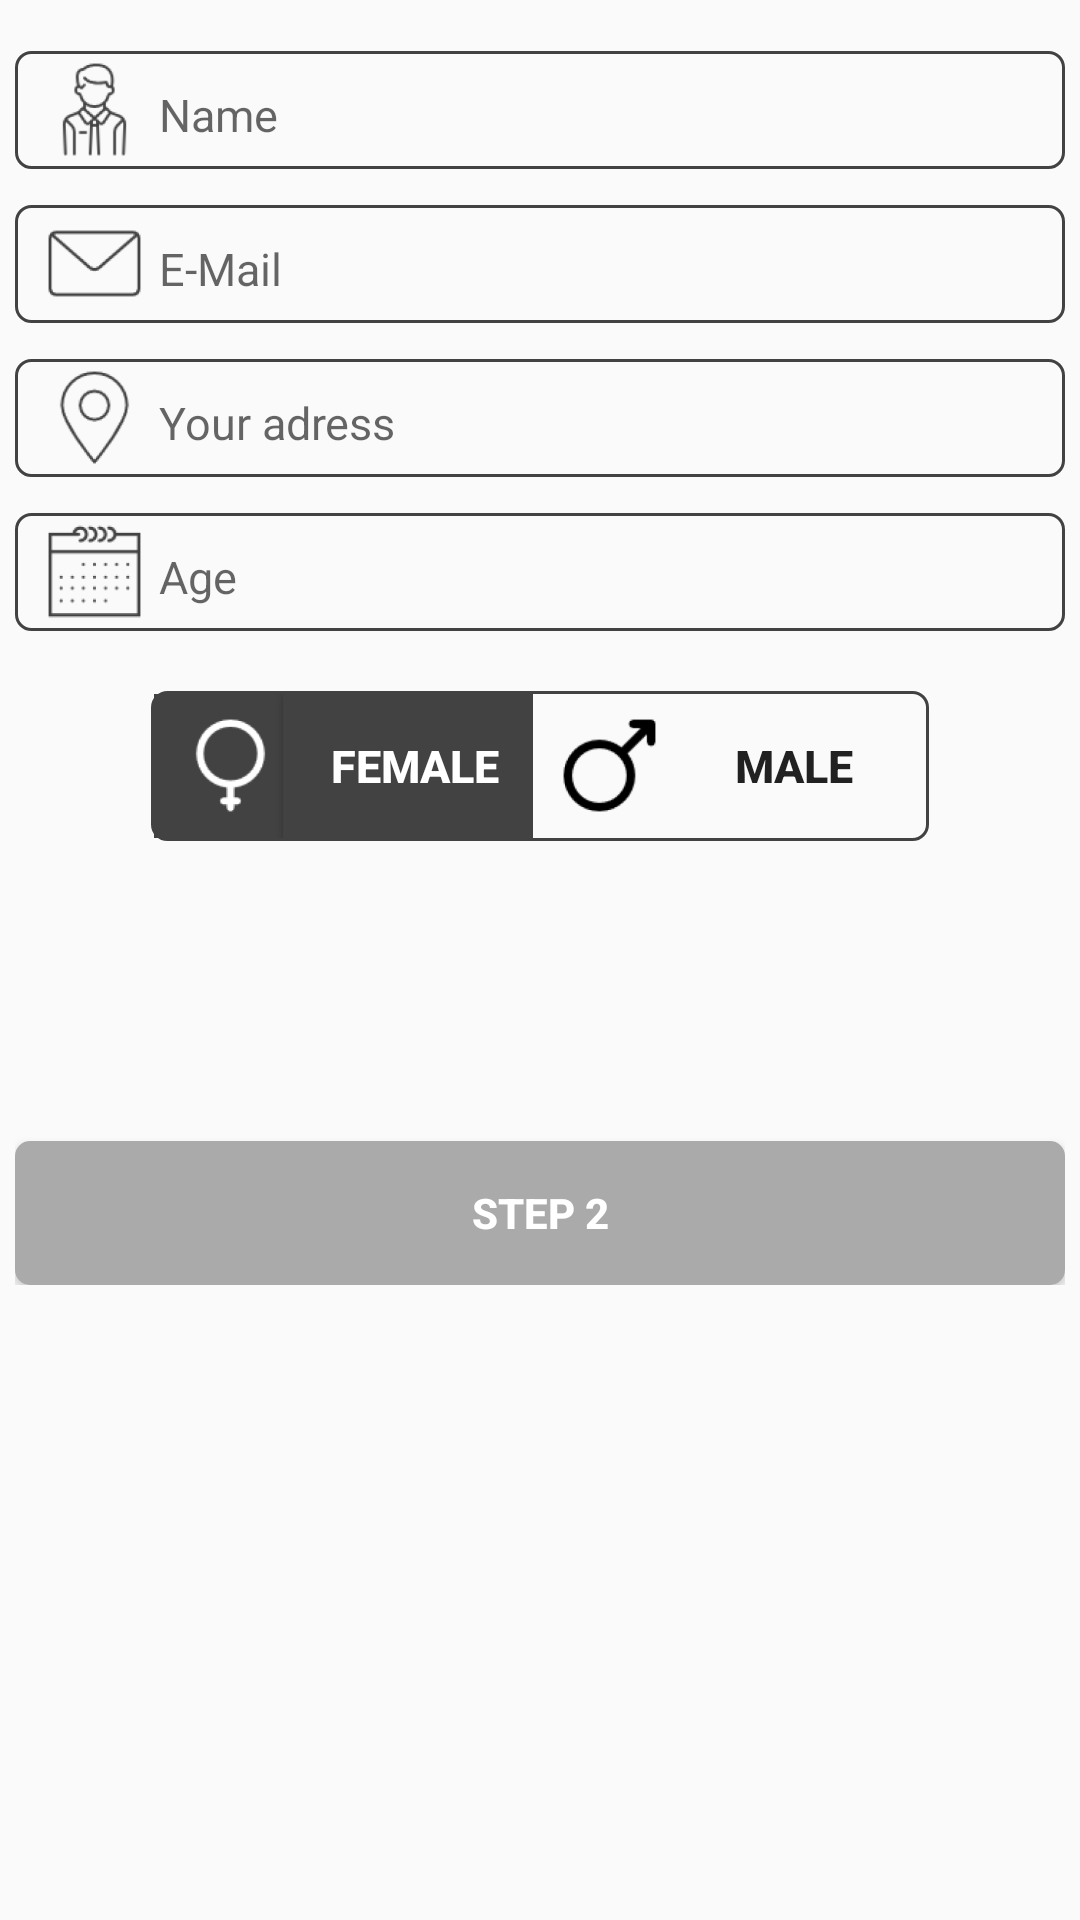

Icons on this 1080px×1920px Android screen, each with the point to tap as (x=x, y=y):
calender: (x=94, y=571)
poi: (x=94, y=417)
